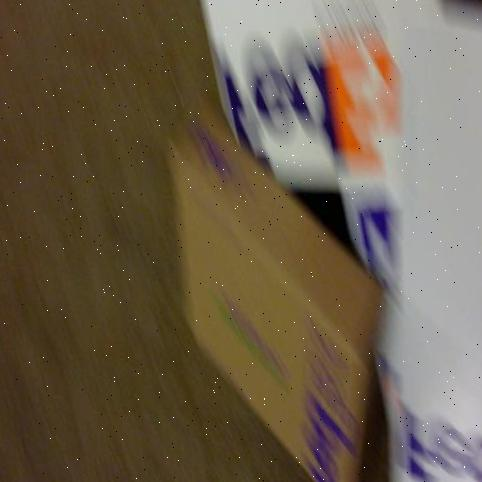Amazon: (172, 124, 365, 482), (225, 0, 451, 176)
